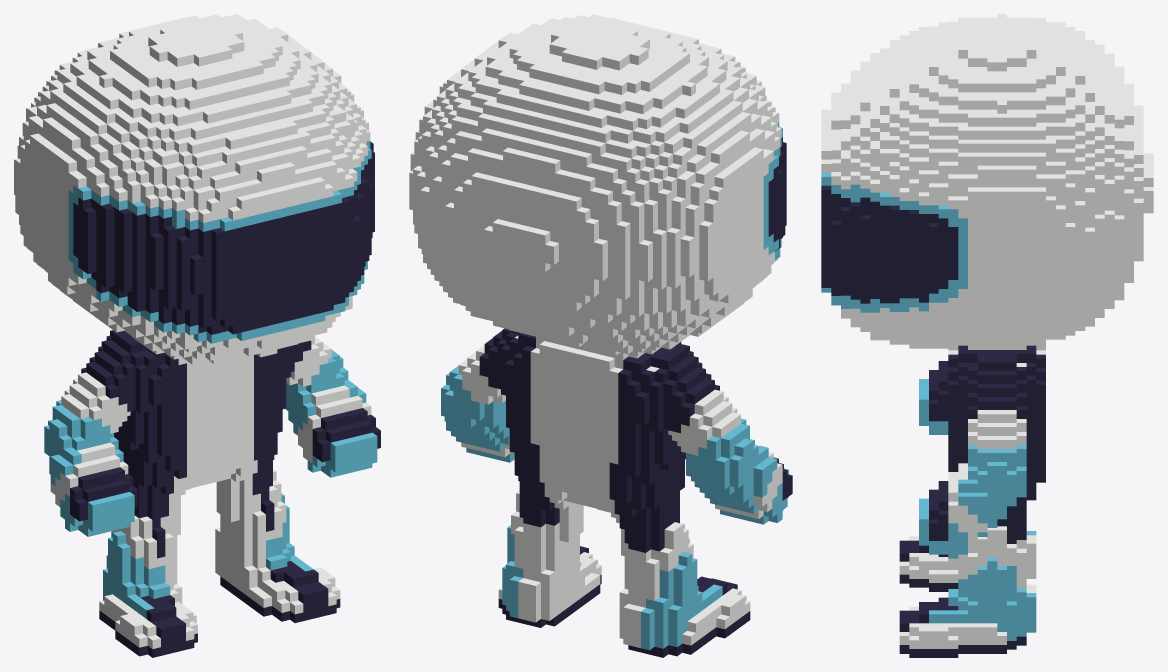
Rendered from racer-0.obj.
3 views of the same model, side by side, from view 1: azimuth 30°, elevation 25°; view 2: azimuth 150°, elevation 25°; view 3: azimuth 270°, elevation 25° (orthographic). The views are drawn at different scales.
Bounding box in the file's own units: 3.6 × 6.4 × 3.4.
1 material, 1 textured.
